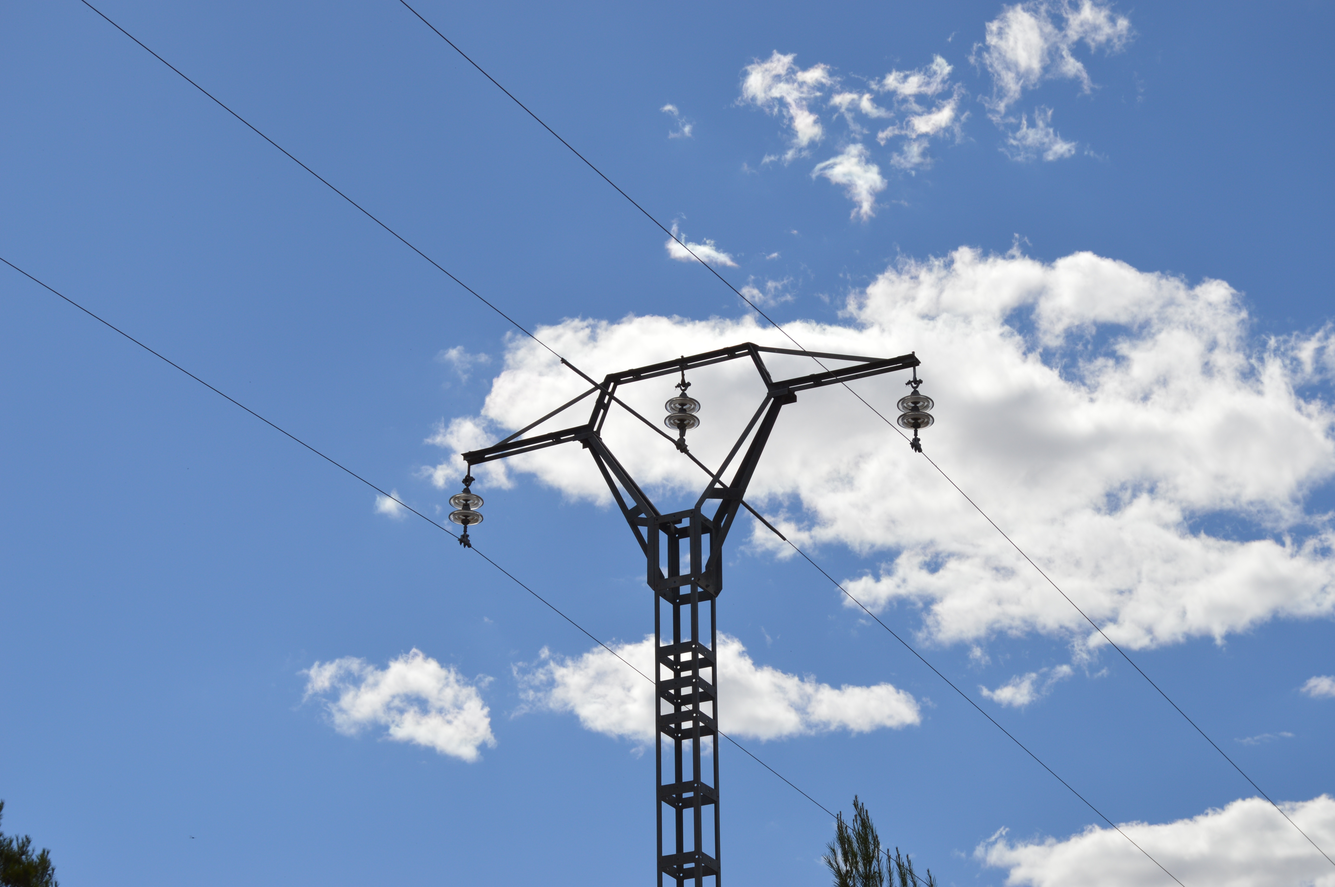insulator: (893, 390, 935, 434), (660, 393, 703, 432), (446, 487, 485, 527)
